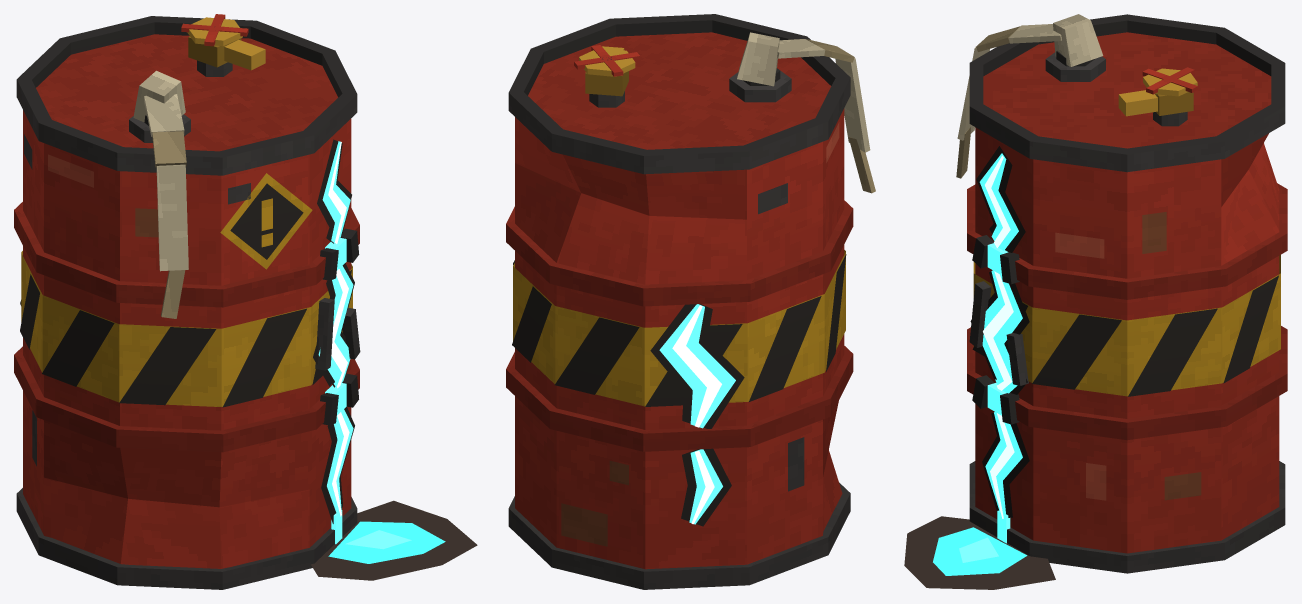
File: fp_barrel_boom.glb
3 views of the same model, side by side, from view 1: azimuth 30°, elevation 25°; view 2: azimuth 150°, elevation 25°; view 3: azimuth 270°, elevation 25° (orthographic). The views are drawn at different scales.
Parts seen in each view (by area): view 1: fp_barrel_boom, deco_rag, glow_fuel; view 2: fp_barrel_boom, glow_fuel, deco_rag; view 3: fp_barrel_boom, glow_fuel, deco_rag.
Boxes of the visible parts, x1,y1,x2,y2 form: fp_barrel_boom: [14, 14, 360, 589]; deco_rag: [133, 70, 477, 580]; glow_fuel: [318, 141, 445, 563]; fp_barrel_boom: [506, 14, 853, 589]; glow_fuel: [659, 304, 735, 524]; deco_rag: [737, 32, 875, 193]; fp_barrel_boom: [967, 14, 1287, 573]; glow_fuel: [933, 153, 1027, 575]; deco_rag: [904, 14, 1103, 589].
Size of the model in its own units: 0.8896 by 1.18 by 0.8914.
Materials: 16 (8 with a texture image).
